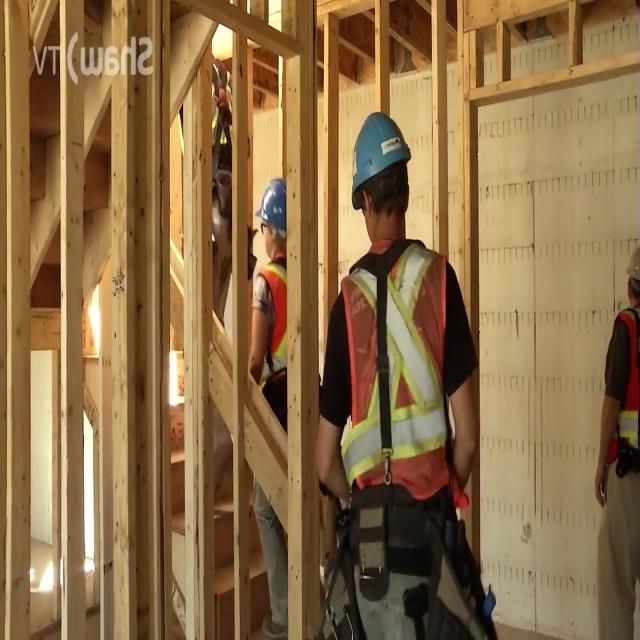Reflective-Jacket: (318, 236, 475, 542), (595, 296, 640, 479), (248, 260, 290, 398)
Safety-Helmet: (342, 102, 418, 214), (253, 169, 303, 245), (620, 238, 640, 294)
